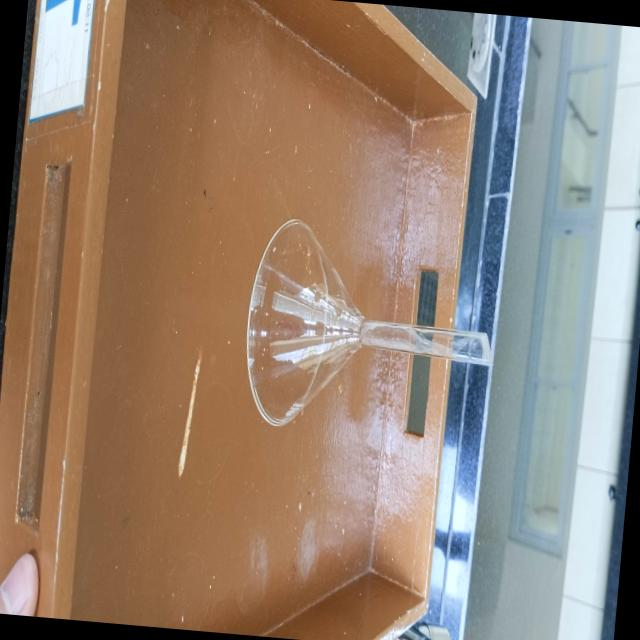funnel: (230, 192, 502, 470)
